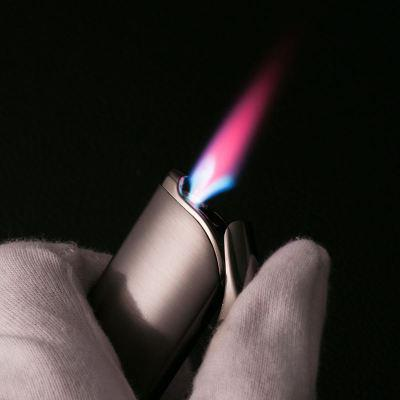fire: (183, 63, 278, 213)
